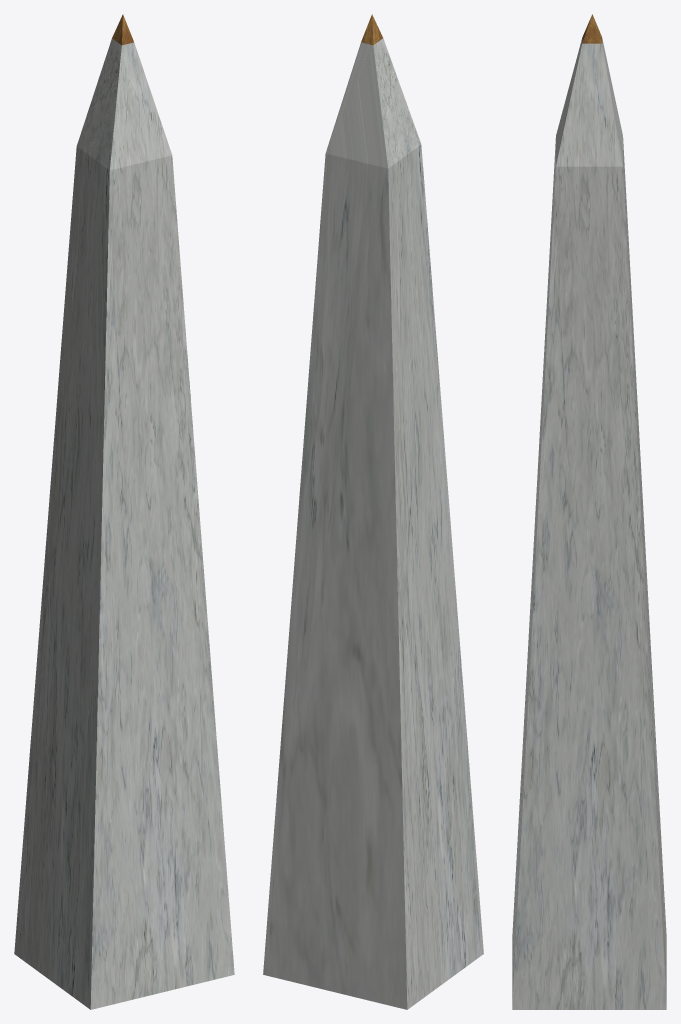
The model's file is Washington Monument.fbx.
3 renders of one model, left to right at view 1: azimuth 30°, elevation 25°; view 2: azimuth 150°, elevation 25°; view 3: azimuth 270°, elevation 25°, orthographic.
Parts seen in each view (by area): view 1: polySurface1; view 2: polySurface1; view 3: polySurface1.
Part boxes in pixels (<box>): polySurface1: <box>14,14,234,1009</box>; polySurface1: <box>263,14,483,1009</box>; polySurface1: <box>512,14,666,1009</box>.
Bounding box in the file's own units: 6.7 × 42.21 × 6.16.
Materials: 3 (2 with a texture image).
